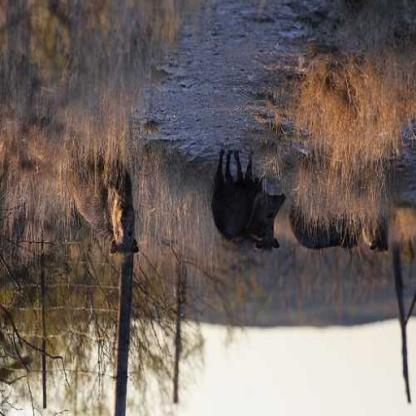boar: (205, 126, 278, 268)
